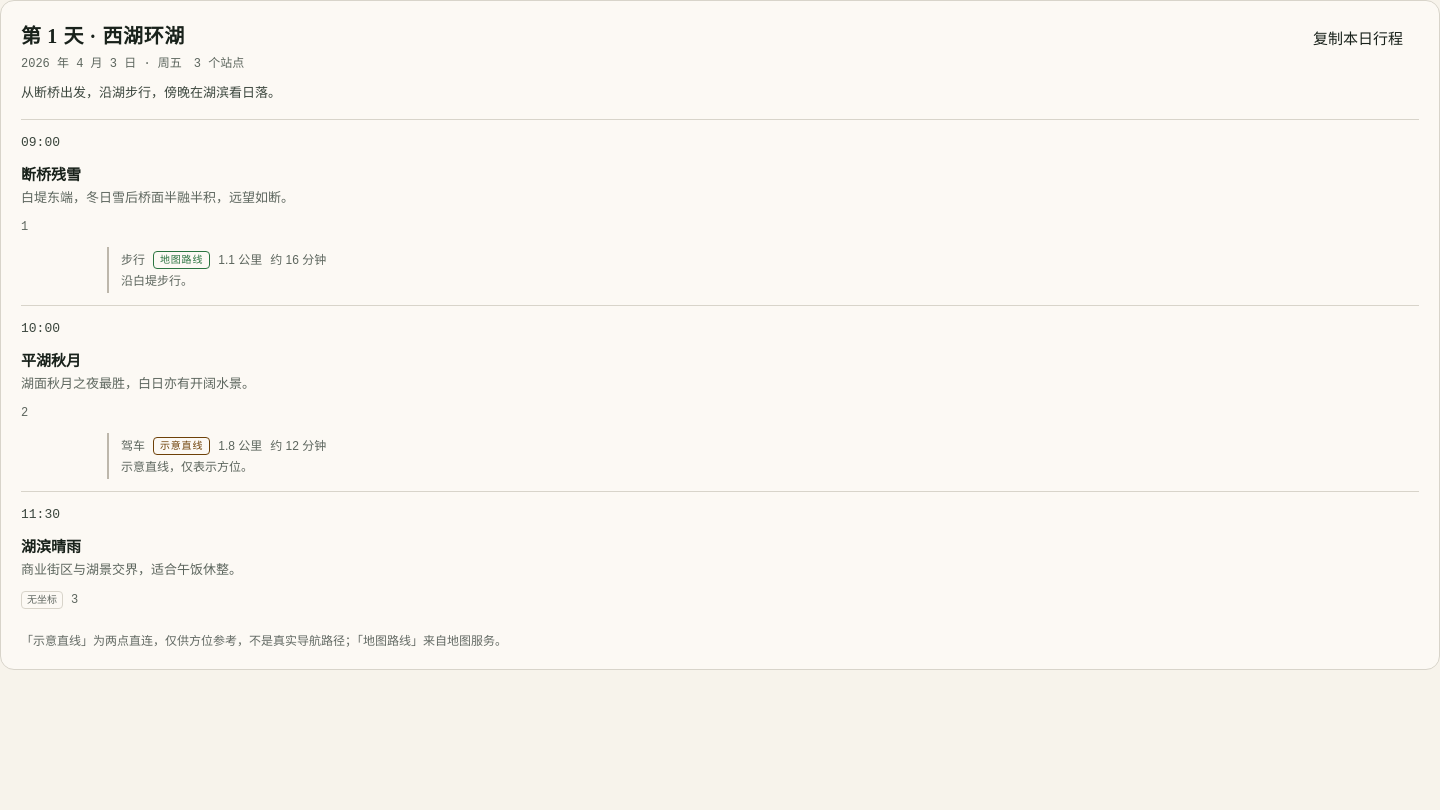
it: ItineraryList 复制 › execCommand 抛异常时提示失败，临时 textarea 也要清理
Click the button "复制本日行程" at (1358, 39), box 1297,21 -> 1419,57
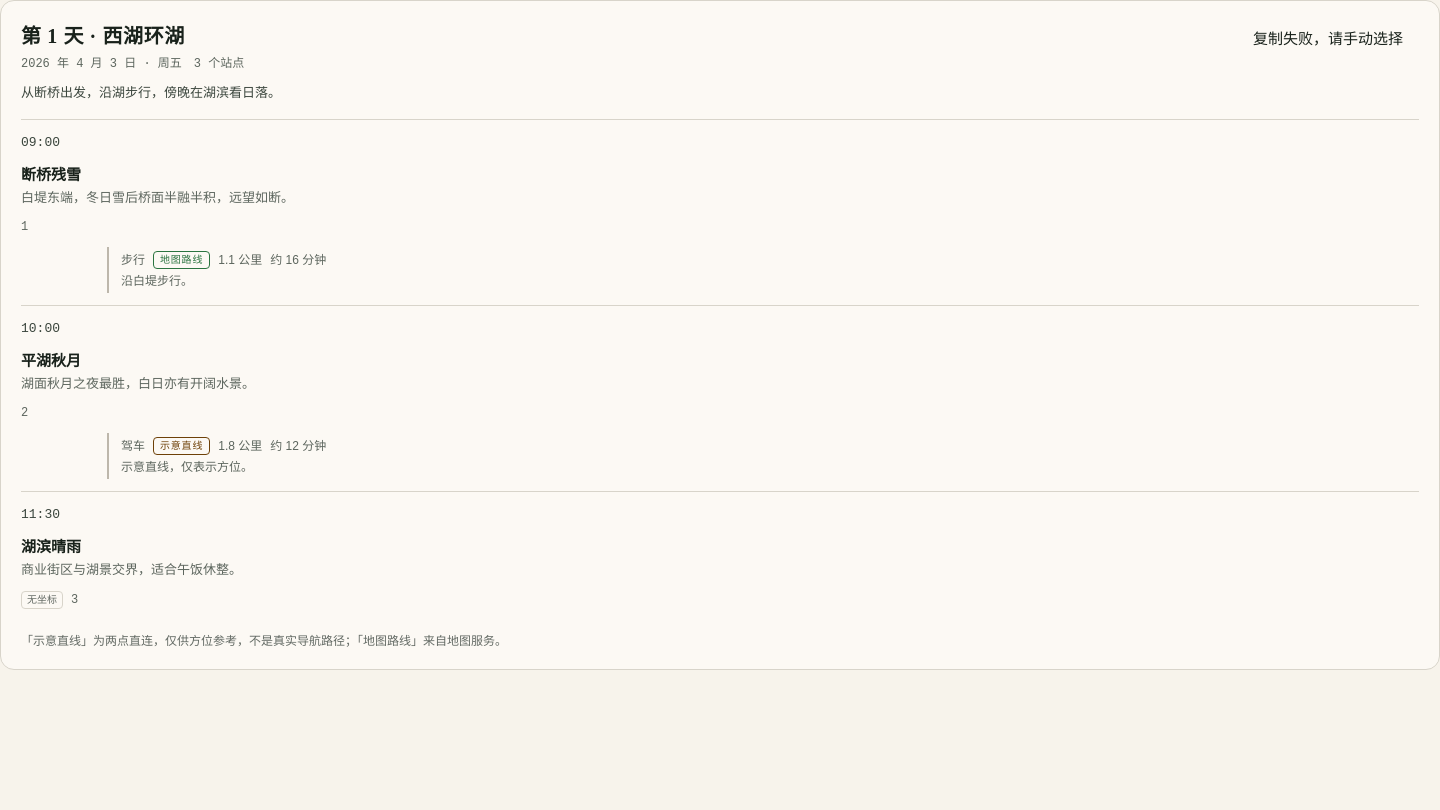
Now the button "复制失败，请手动选择" is shown, box 1237,21 -> 1419,57
